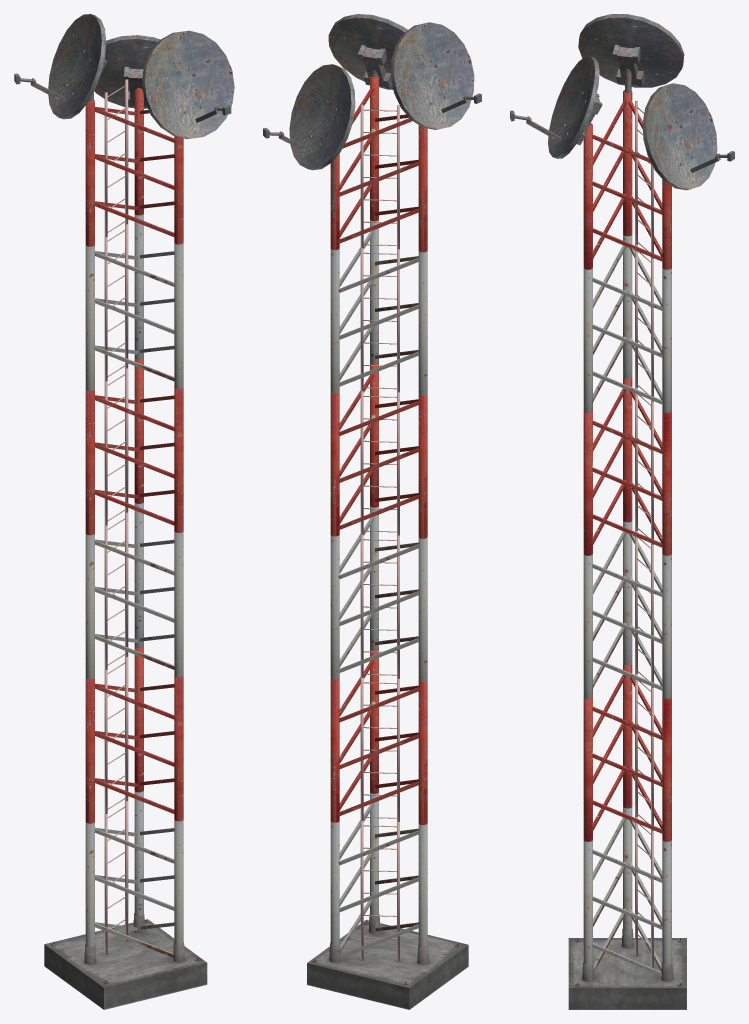
File: RadioTawer.fbx
3 renders of one model, left to right at view 1: azimuth 30°, elevation 25°; view 2: azimuth 150°, elevation 25°; view 3: azimuth 270°, elevation 25°, orthographic.
Parts seen in each view (by area): view 1: Base, pCylinder87.001, Tower.004, Tower.002, Tower.001, Tower.003, Tower, Tower.005, pCylinder87.002, pCylinder87, Stairs.004, Stairs.003 (+4 smaller); view 2: Base, pCylinder87.002, Tower.002, Tower.001, Tower.003, Tower.004, Tower, pCylinder87, Tower.005, pCylinder87.001, Stairs.001, Stairs.002 (+4 smaller); view 3: Base, Tower.004, Tower.002, Tower.003, Tower.001, pCylinder87, Tower, pCylinder87.002, Tower.005, pCylinder87.001, Stairs.004, Stairs.001 (+4 smaller).
Part boxes in pixels (x1,y1,x2,y2): Base: [44, 913, 207, 1009]; pCylinder87.001: [142, 30, 234, 139]; Tower.004: [85, 214, 183, 390]; Tower.002: [85, 502, 183, 679]; Tower.001: [85, 646, 183, 823]; Tower.003: [85, 358, 183, 535]; Tower: [85, 791, 183, 957]; Tower.005: [85, 71, 183, 246]; pCylinder87.002: [14, 14, 106, 119]; pCylinder87: [94, 35, 160, 108]; Stairs.004: [104, 224, 128, 381]; Stairs.003: [104, 368, 128, 525]; Base: [307, 914, 468, 1009]; pCylinder87.002: [390, 22, 481, 129]; Tower.002: [330, 506, 427, 681]; Tower.001: [330, 649, 427, 824]; Tower.003: [330, 363, 427, 538]; Tower.004: [330, 220, 427, 395]; Tower: [330, 792, 427, 958]; pCylinder87: [263, 64, 355, 215]; Tower.005: [330, 75, 427, 252]; pCylinder87.001: [328, 14, 407, 89]; Stairs.001: [360, 677, 399, 821]; Stairs.002: [360, 534, 399, 678]; Base: [568, 929, 686, 1009]; Tower.004: [583, 235, 671, 412]; Tower.002: [583, 521, 671, 698]; Tower.003: [583, 378, 671, 555]; Tower.001: [583, 664, 671, 841]; pCylinder87: [642, 83, 734, 190]; Tower: [583, 807, 671, 976]; pCylinder87.002: [578, 14, 684, 93]; Tower.005: [583, 90, 671, 269]; pCylinder87.001: [510, 56, 602, 158]; Stairs.004: [635, 244, 653, 401]; Stairs.001: [635, 674, 653, 830].
Bounding box in the file's own units: 267 × 1339 × 285.
